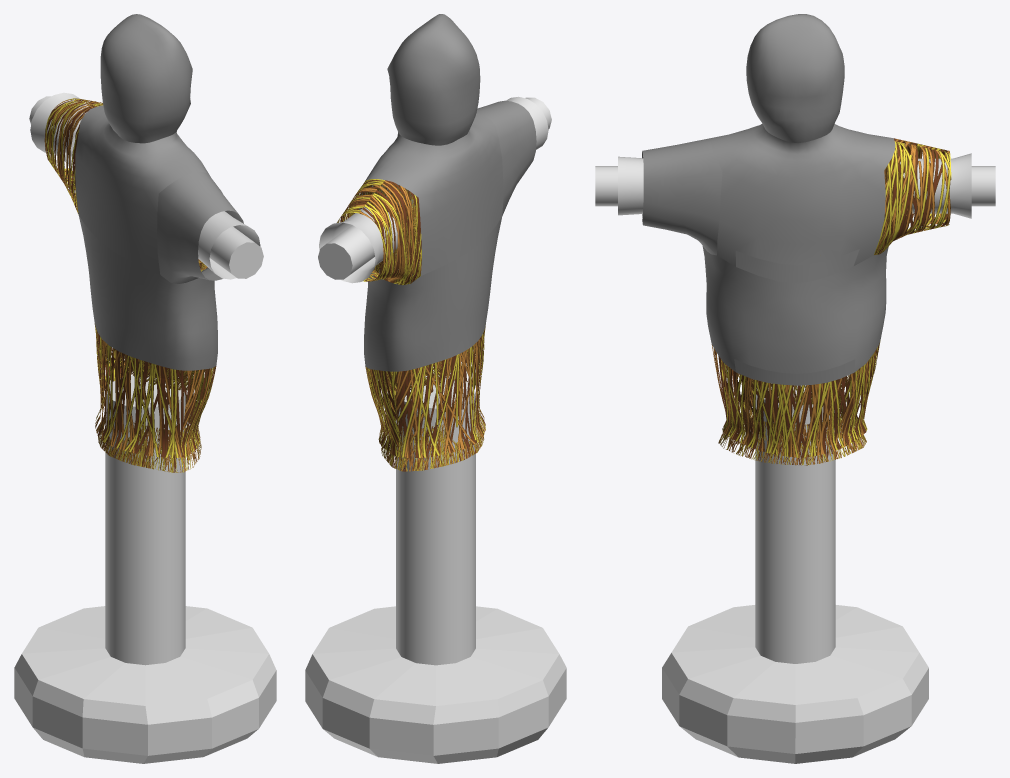
Rendered from Dummy_plus_hay.FBX.
The picture shows the model from 3 angles, left to right: view 1: azimuth 30°, elevation 25°; view 2: azimuth 150°, elevation 25°; view 3: azimuth 270°, elevation 25°; orthographic projection.
Parts seen in each view (by area): view 1: Dummy_Base, Dummy_CenterBody, Dummy_UpperBody, Dummy_Head, Dummy_LowerBody, Dummy_RightArm, Dummy_LeftArm, Hay_LowerBody_Bottom, Dummy_ArmsRight, Hay_RightArm, Hay_LeftArm, Hay_CenterBody_Bottom; view 2: Dummy_Base, Dummy_UpperBody, Dummy_CenterBody, Dummy_Head, Dummy_LowerBody, Dummy_LeftArm, Dummy_RightArm, Hay_LowerBody_Bottom, Dummy_ArmsLeft, Hay_LeftArm, HayL_inside, Hay_RightArm; view 3: Dummy_Base, Dummy_UpperBody, Dummy_CenterBody, Dummy_Head, Dummy_LowerBody, Dummy_RightArm, Dummy_LeftArm, Hay_LowerBody_Bottom, Hay_LeftArm, Hay_RightArm, Dummy_ArmsLeft, Dummy_ArmsRight.
Boxes of the visible parts, x1,y1,x2,y2 form: Dummy_Base: [14, 375, 276, 763]; Dummy_CenterBody: [78, 215, 217, 370]; Dummy_UpperBody: [75, 105, 210, 274]; Dummy_Head: [100, 14, 192, 143]; Dummy_LowerBody: [94, 323, 216, 457]; Dummy_RightArm: [157, 172, 243, 283]; Dummy_LeftArm: [44, 98, 103, 214]; Hay_LowerBody_Bottom: [98, 395, 201, 472]; Dummy_ArmsRight: [209, 226, 263, 278]; Hay_RightArm: [198, 211, 260, 279]; Hay_LeftArm: [30, 92, 86, 166]; Hay_CenterBody_Bottom: [102, 343, 205, 390]; Dummy_Base: [305, 375, 566, 763]; Dummy_UpperBody: [359, 113, 503, 275]; Dummy_CenterBody: [364, 217, 501, 371]; Dummy_Head: [387, 14, 480, 145]; Dummy_LowerBody: [365, 324, 485, 458]; Dummy_LeftArm: [337, 179, 421, 285]; Dummy_RightArm: [476, 100, 536, 215]; Hay_LowerBody_Bottom: [381, 381, 484, 471]; Dummy_ArmsLeft: [318, 225, 374, 279]; Hay_LeftArm: [319, 206, 397, 283]; HayL_inside: [357, 182, 419, 284]; Hay_RightArm: [506, 96, 548, 149]; Dummy_Base: [662, 383, 928, 763]; Dummy_UpperBody: [710, 123, 895, 283]; Dummy_CenterBody: [702, 235, 888, 385]; Dummy_Head: [746, 14, 844, 142]; Dummy_LowerBody: [711, 340, 880, 457]; Dummy_RightArm: [642, 138, 722, 255]; Dummy_LeftArm: [874, 138, 951, 254]; Hay_LowerBody_Bottom: [718, 395, 866, 465]; Hay_LeftArm: [912, 153, 971, 218]; Hay_RightArm: [618, 156, 643, 215]; Dummy_ArmsLeft: [971, 166, 995, 206]; Dummy_ArmsRight: [595, 166, 617, 206].
Bounding box in the file's own units: 37.27 × 57.15 × 110.
